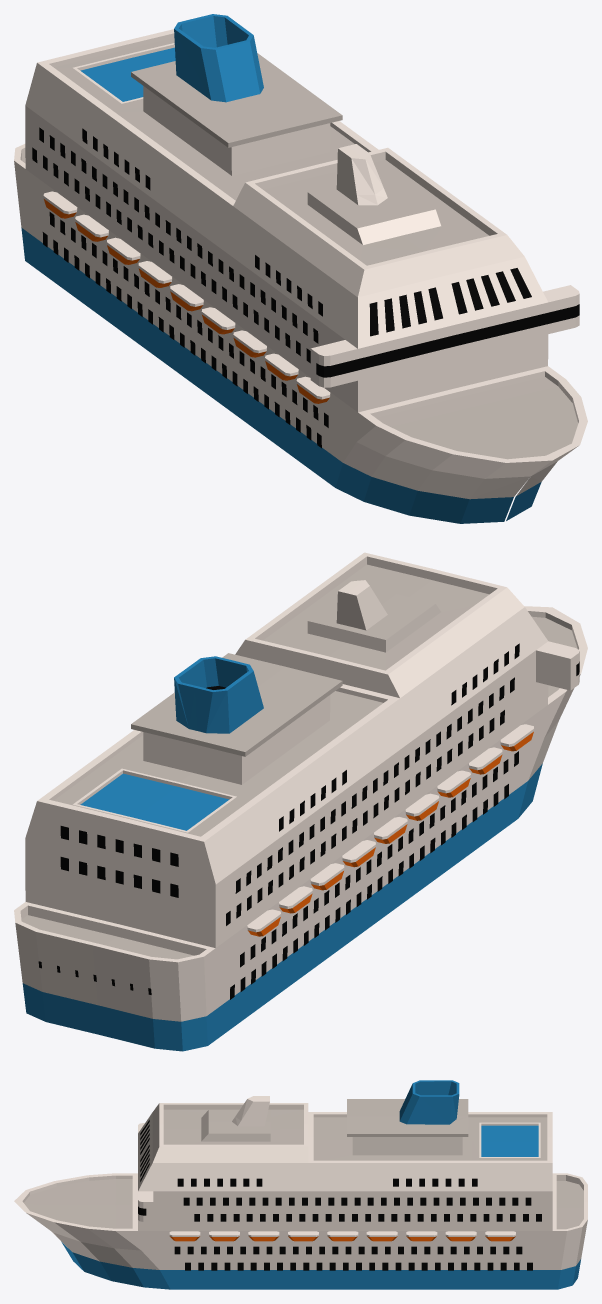
The model's file is f49539e8-cda3-4913-9a4b-774047f06dca.glb.
3 renders of one model, top to bottom at view 1: azimuth 30°, elevation 25°; view 2: azimuth 150°, elevation 25°; view 3: azimuth 270°, elevation 25°, orthographic. The views are drawn at different scales.
Parts seen in each view (by area): view 1: Cruise_Liner; view 2: Cruise_Liner; view 3: Cruise_Liner.
Boxes of the visible parts, x1,y1,x2,y2 form: Cruise_Liner: (14,14,587,523); Cruise_Liner: (14,552,587,1051); Cruise_Liner: (14,1080,587,1289).
Size of the model in its own units: 31.18 by 31.87 by 95.58.
Materials: 1 (1 with a texture image).
